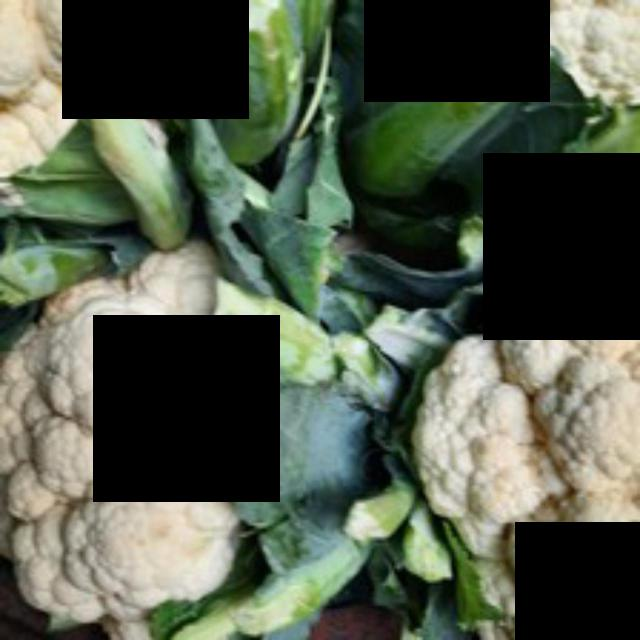cauliflower: (0, 240, 274, 637), (403, 214, 637, 637)
